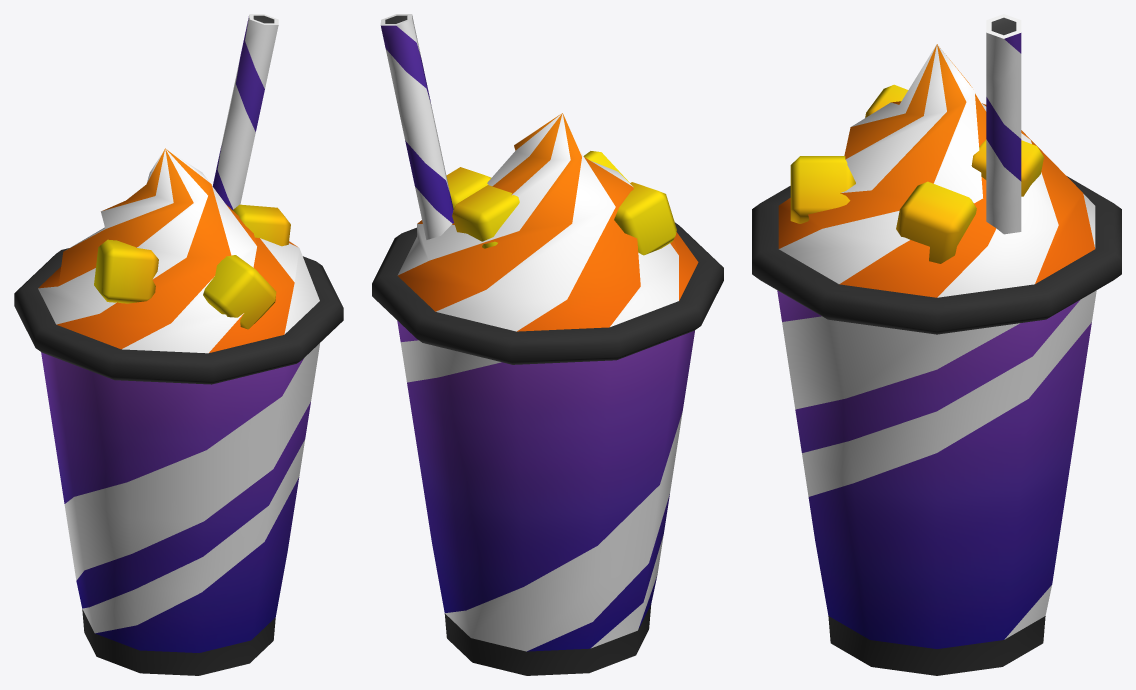
The model's file is CreamOrange.fbx.
The picture shows the model from 3 angles, left to right: view 1: azimuth 30°, elevation 25°; view 2: azimuth 150°, elevation 25°; view 3: azimuth 270°, elevation 25°; orthographic projection. The views are drawn at different scales.
Parts seen in each view (by area): view 1: Map02_Douong_LV4; view 2: Map02_Douong_LV4; view 3: Map02_Douong_LV4.
Boxes of the visible parts, x1,y1,x2,y2 form: Map02_Douong_LV4: [14, 14, 343, 675]; Map02_Douong_LV4: [372, 14, 723, 675]; Map02_Douong_LV4: [752, 14, 1121, 675].
Size of the model in its own units: 67.22 by 128 by 63.93.
